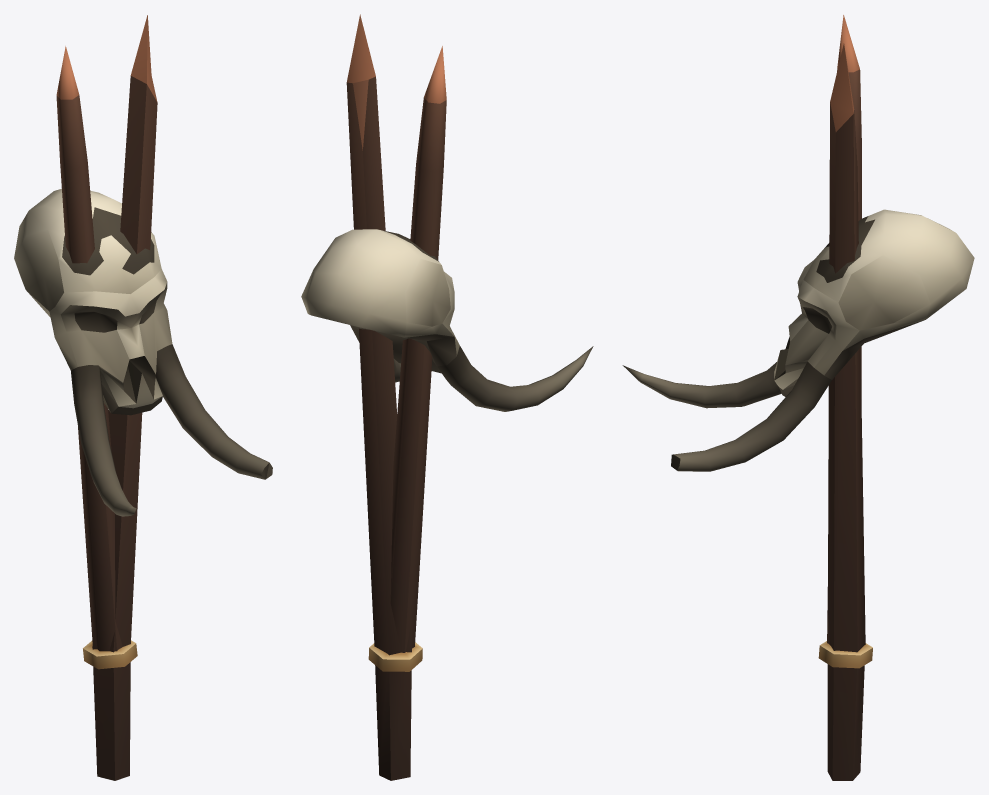
Rendered from Skull_Pole_3A.fbx.
3 renders of one model, left to right at view 1: azimuth 30°, elevation 25°; view 2: azimuth 150°, elevation 25°; view 3: azimuth 270°, elevation 25°, orthographic.
Parts seen in each view (by area): view 1: Skull_Pole_3A; view 2: Skull_Pole_3A; view 3: Skull_Pole_3A.
Boxes of the visible parts, box(x1,y1,x2,y2) form: Skull_Pole_3A: box(14, 15, 272, 780); Skull_Pole_3A: box(301, 14, 593, 780); Skull_Pole_3A: box(622, 15, 974, 780).
Bounding box in the file's own units: 0.8918 × 3.89 × 1.65.
